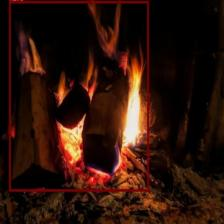fire: (9, 0, 149, 191)
